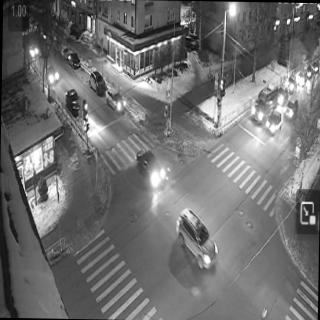small-vehicle: (173, 200, 220, 275), (132, 148, 162, 188), (251, 82, 276, 121), (88, 70, 109, 106), (64, 87, 82, 121), (108, 92, 126, 120), (41, 63, 60, 88), (26, 40, 44, 64), (67, 53, 83, 77), (266, 109, 282, 132), (56, 34, 69, 61), (276, 80, 290, 104), (286, 92, 298, 119), (296, 66, 308, 90), (311, 54, 320, 78), (288, 70, 296, 92), (304, 60, 312, 80)
